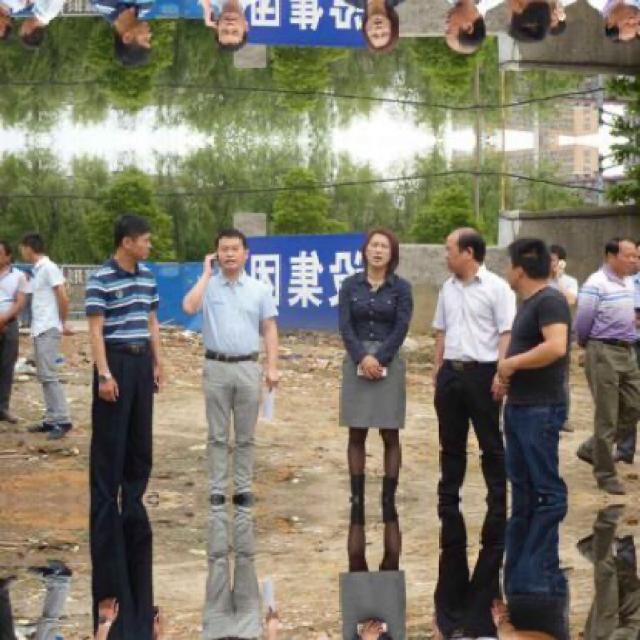sin casco: (298, 220, 406, 316), (201, 214, 284, 290), (112, 194, 182, 272), (426, 226, 482, 302), (491, 253, 560, 313), (569, 231, 640, 287), (8, 222, 62, 272)
